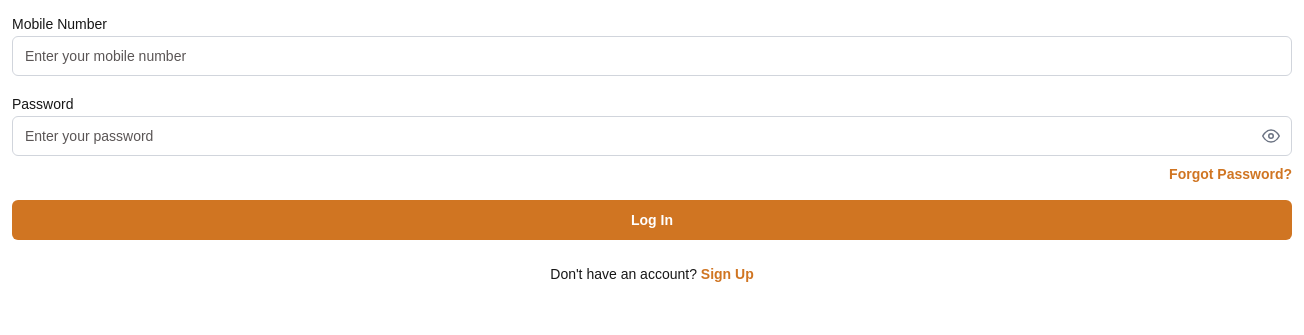
Scenario: LoginForm › shows backend error on login failure
This screenshot has width=1304, height=335.
In the field with placeholder "Enter your mobile number": [652, 56] box [12, 36, 1292, 76], type "9812345678"
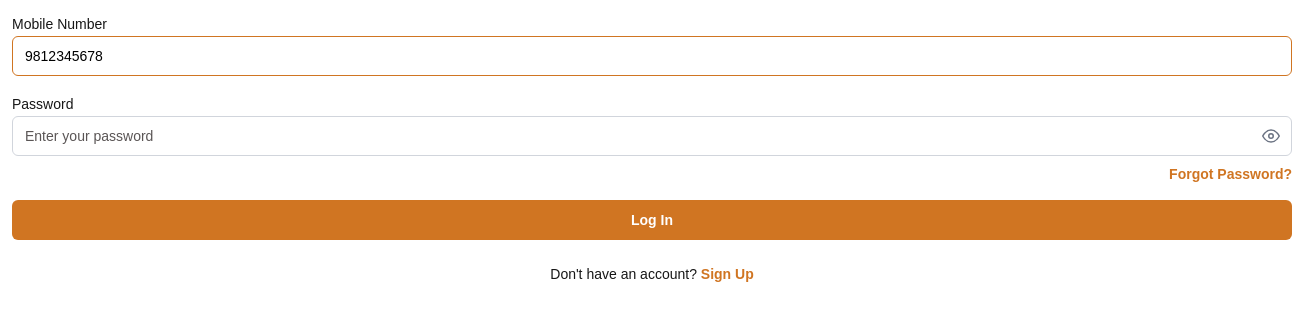
In the password field with placeholder "Enter your password": [652, 136] box [12, 116, 1292, 156], type "secret1"
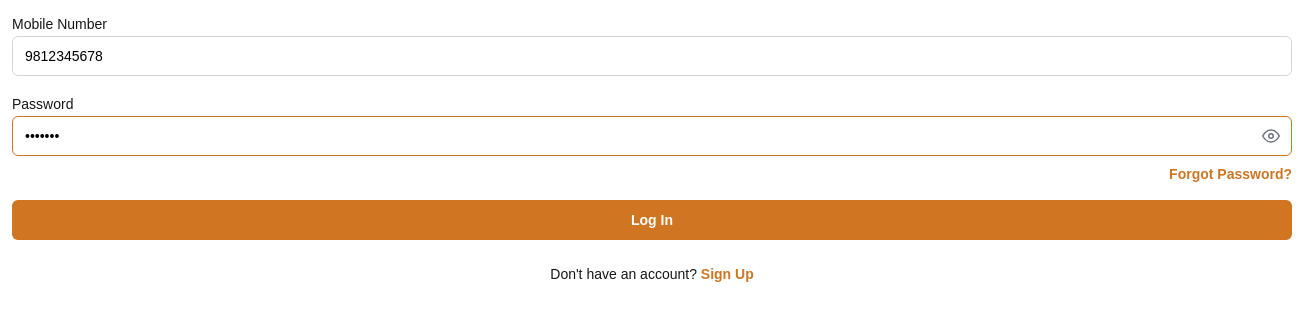
Click the button "Log In": [652, 220] box [12, 200, 1292, 240]
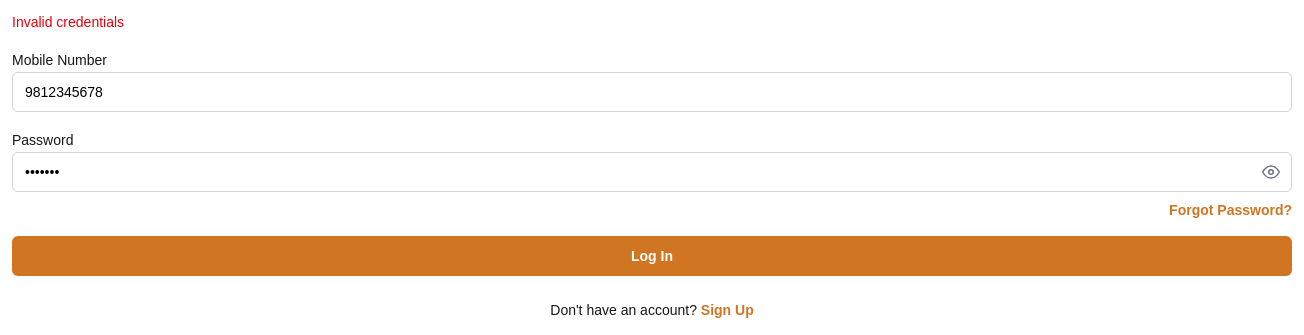
Check: the text "Invalid credentials" is shown, box [12, 14, 124, 30]
